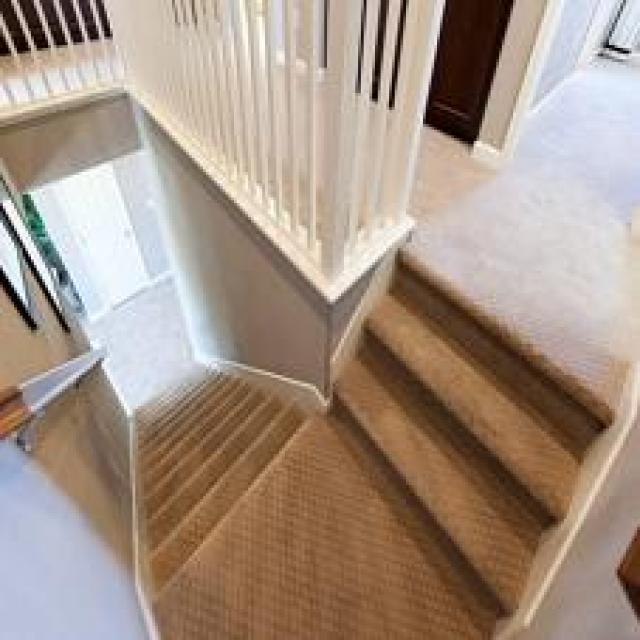stair: (124, 364, 319, 567)
